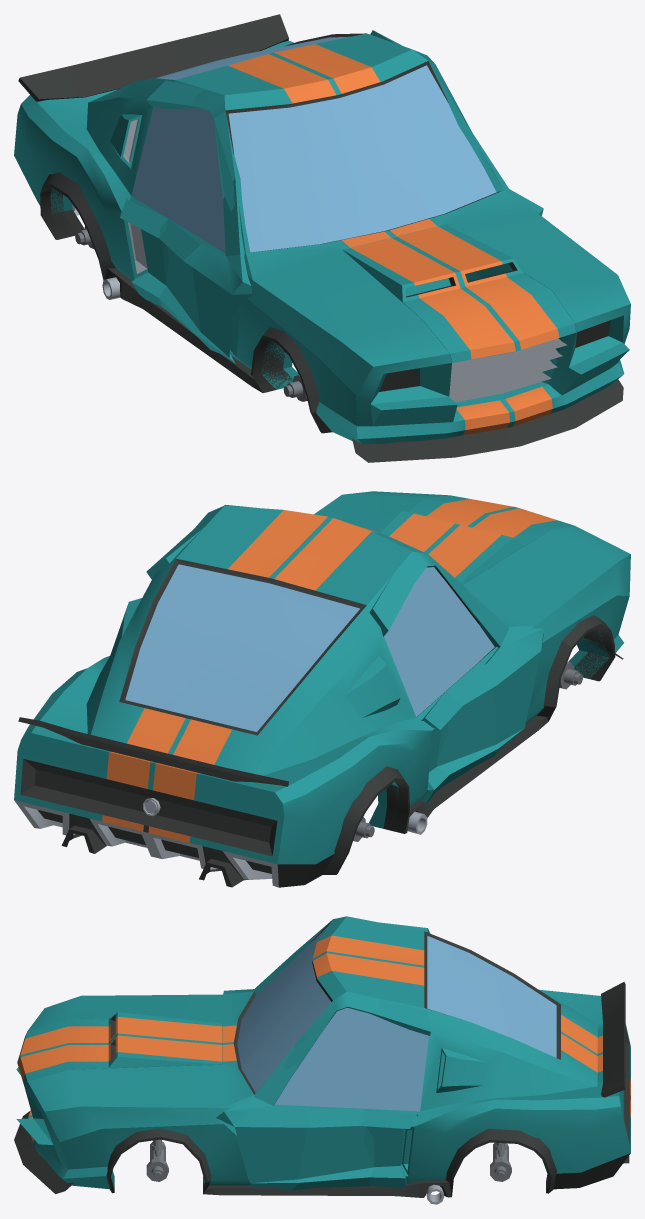
File: macchina_verde_6.fbx
3 renders of one model, top to bottom at view 1: azimuth 30°, elevation 25°; view 2: azimuth 150°, elevation 25°; view 3: azimuth 270°, elevation 25°, orthographic. The views are drawn at different scales.
Parts seen in each view (by area): view 1: scocca_verde, cofano_1, porta_rotta_dx_1, porta_nuova_dx_1, porta_rotta_sx_2; view 2: scocca_verde, porta_rotta_dx_1, porta_nuova_dx_1, cofano_1, porta_rotta_sx_2; view 3: scocca_verde, porta_rotta_sx_2, porta_nuova_sx_2, cofano_1, porta_rotta_dx_1.
Boxes of the visible parts, left/top/right/bottom form: scocca_verde: left=14, top=14, right=630, bottom=462; cofano_1: left=343, top=224, right=576, bottom=362; porta_rotta_dx_1: left=120, top=80, right=252, bottom=363; porta_nuova_dx_1: left=129, top=80, right=252, bottom=361; porta_rotta_sx_2: left=370, top=30, right=543, bottom=215; scocca_verde: left=14, top=491, right=630, bottom=887; porta_rotta_dx_1: left=369, top=552, right=543, bottom=802; porta_nuova_dx_1: left=367, top=551, right=535, bottom=800; cofano_1: left=380, top=495, right=574, bottom=584; porta_rotta_sx_2: left=146, top=527, right=204, bottom=579; scocca_verde: left=14, top=916, right=630, bottom=1204; porta_rotta_sx_2: left=216, top=992, right=430, bottom=1190; porta_nuova_sx_2: left=222, top=992, right=428, bottom=1186; cofano_1: left=17, top=1012, right=221, bottom=1086; porta_rotta_dx_1: left=223, top=921, right=430, bottom=994.
Bounding box in the file's own units: 215 × 146 × 426.
Materials: 1 (1 with a texture image).
